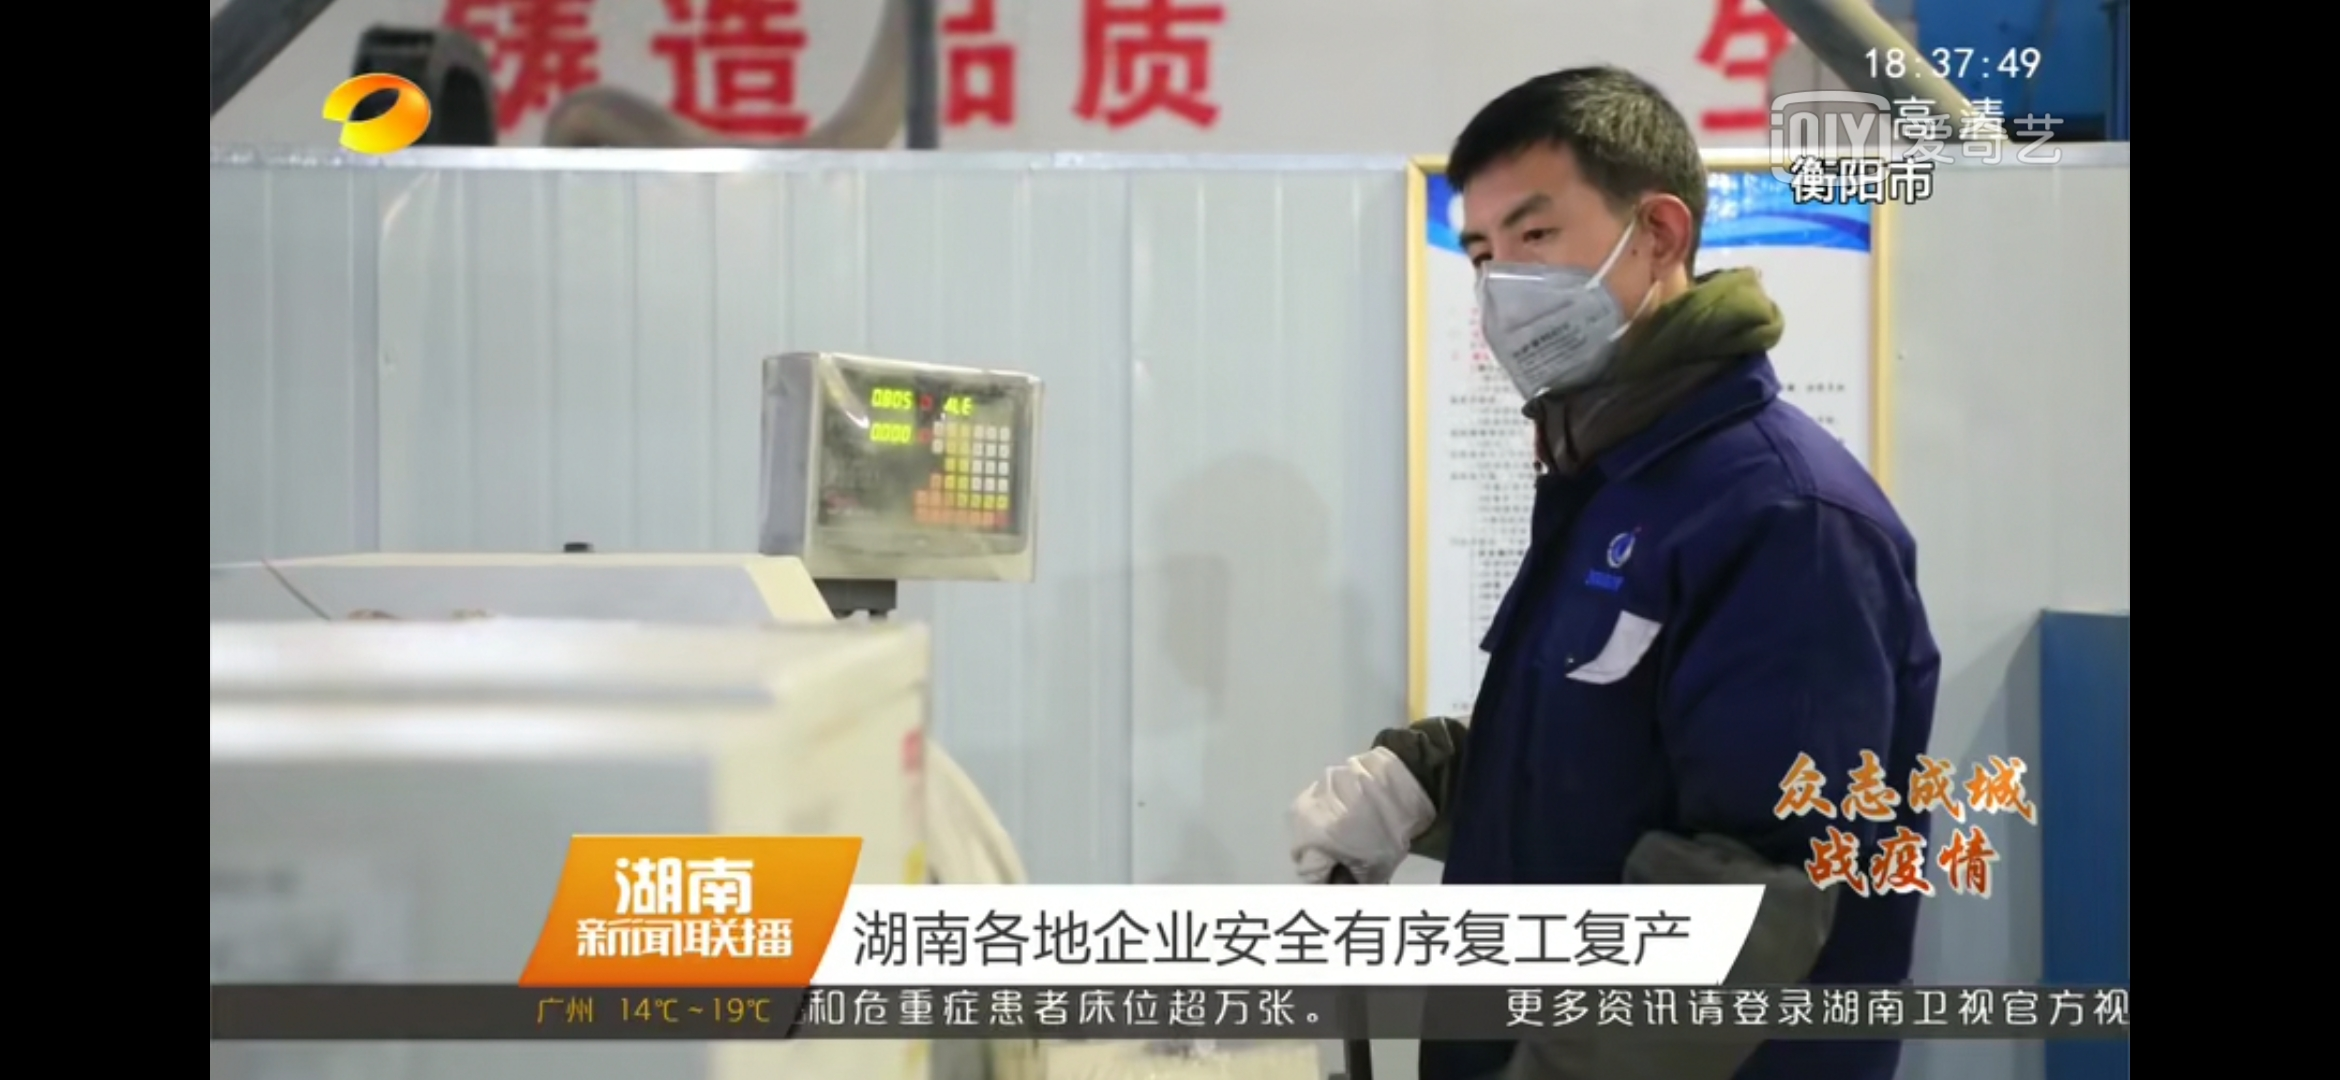correctlyWear: (1454, 175, 1688, 397)
